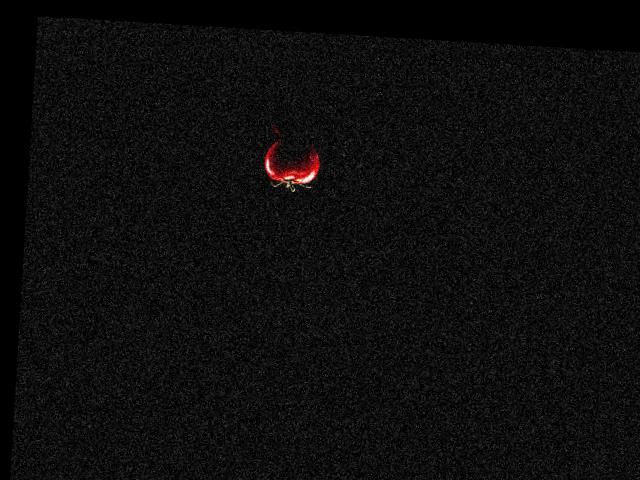tomato: (264, 139, 321, 186)
